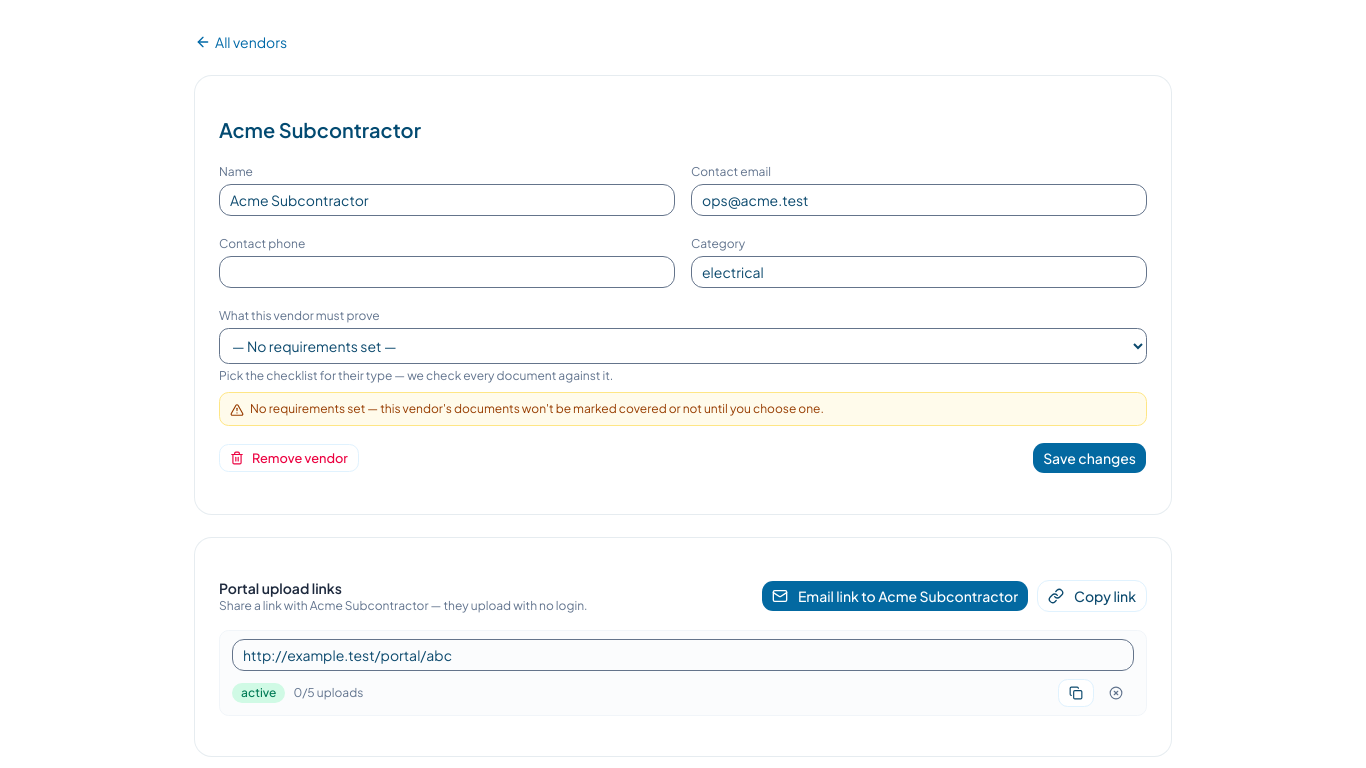
VendorDetailPage — contact email validation (#369) › blocks a pasted display-name address
Replace the text in the field labelled "Contact email" with "Jane Smith <jane@acme.com>" at (919, 200), box [691, 184, 1147, 216]
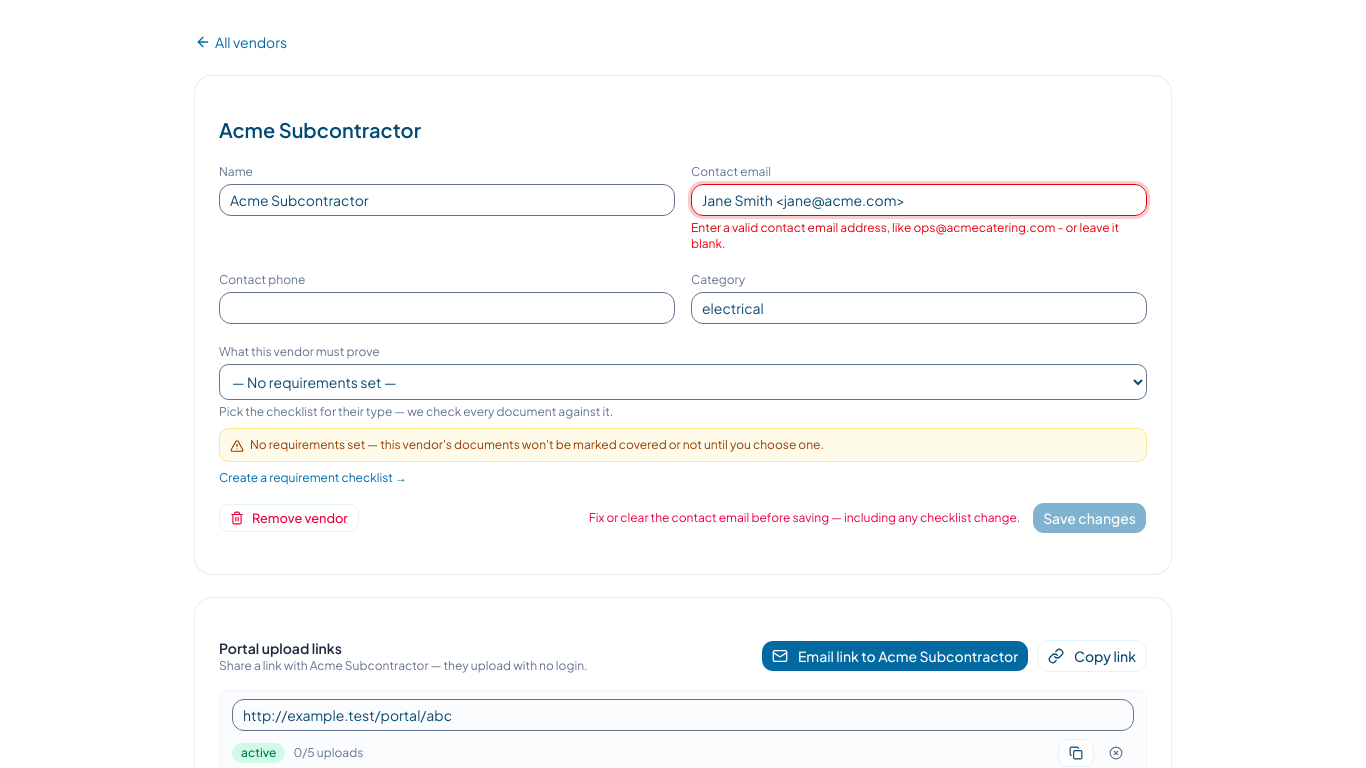
Now the button "Save changes" is disabled, box [1032, 502, 1147, 534]
